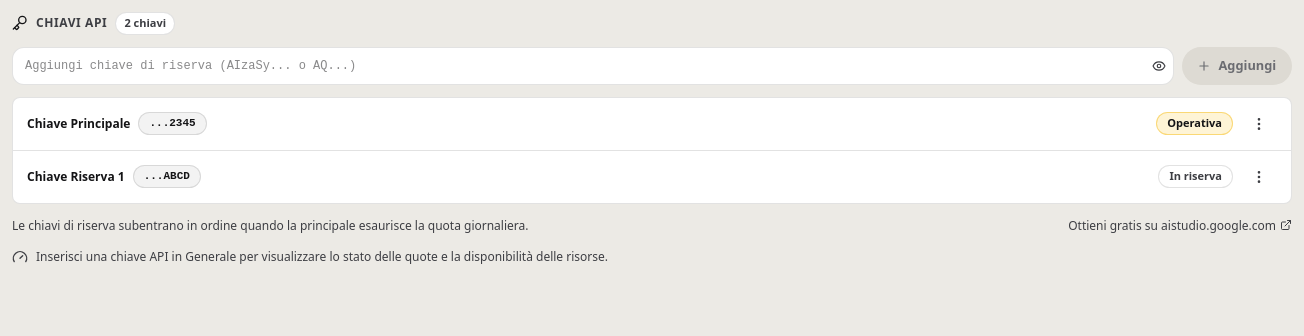
Test: ApiKeySection component › shows error if the key is already in the fallback list
Type "AIzaSyBackupKey11111111111111ABCD" into the password field named "Nuova chiave di riserva" at (593, 66), box 12,46 -> 1174,84
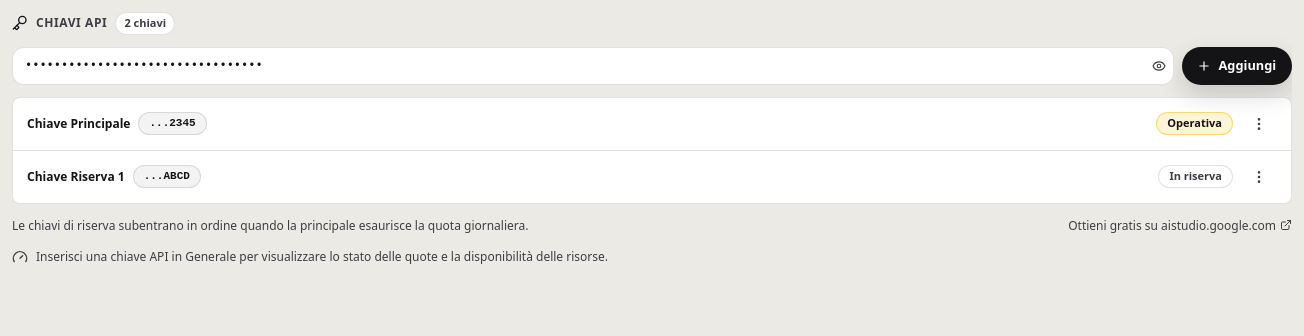
Press Enter in the password field named "Nuova chiave di riserva", box 12,46 -> 1174,84
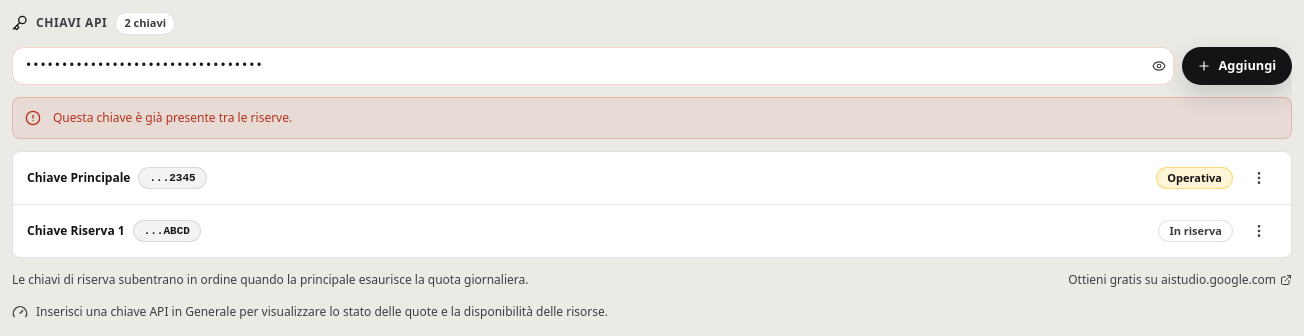
Result: the text "Questa chiave è già presente tra le riserve." is shown at 53,110 -> 292,126
